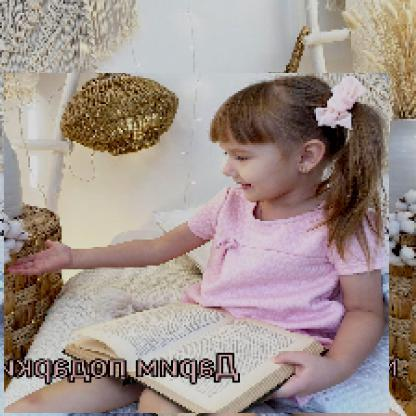child: (5, 74, 391, 415)
